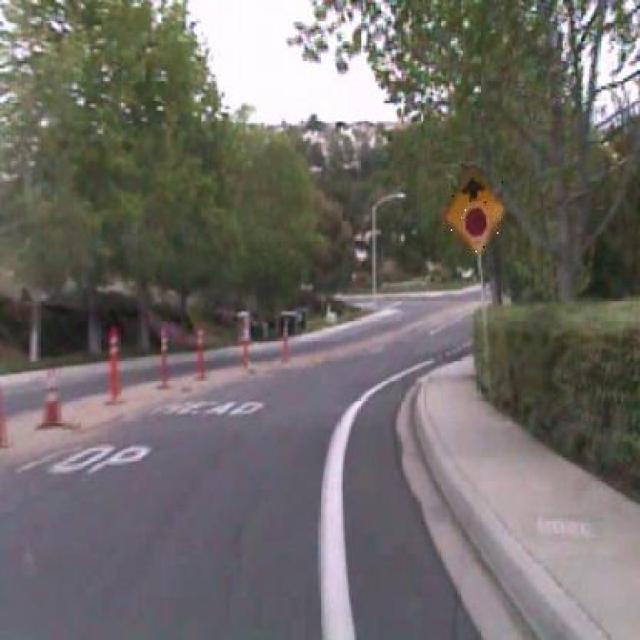stopAhead: (443, 165, 507, 257)
